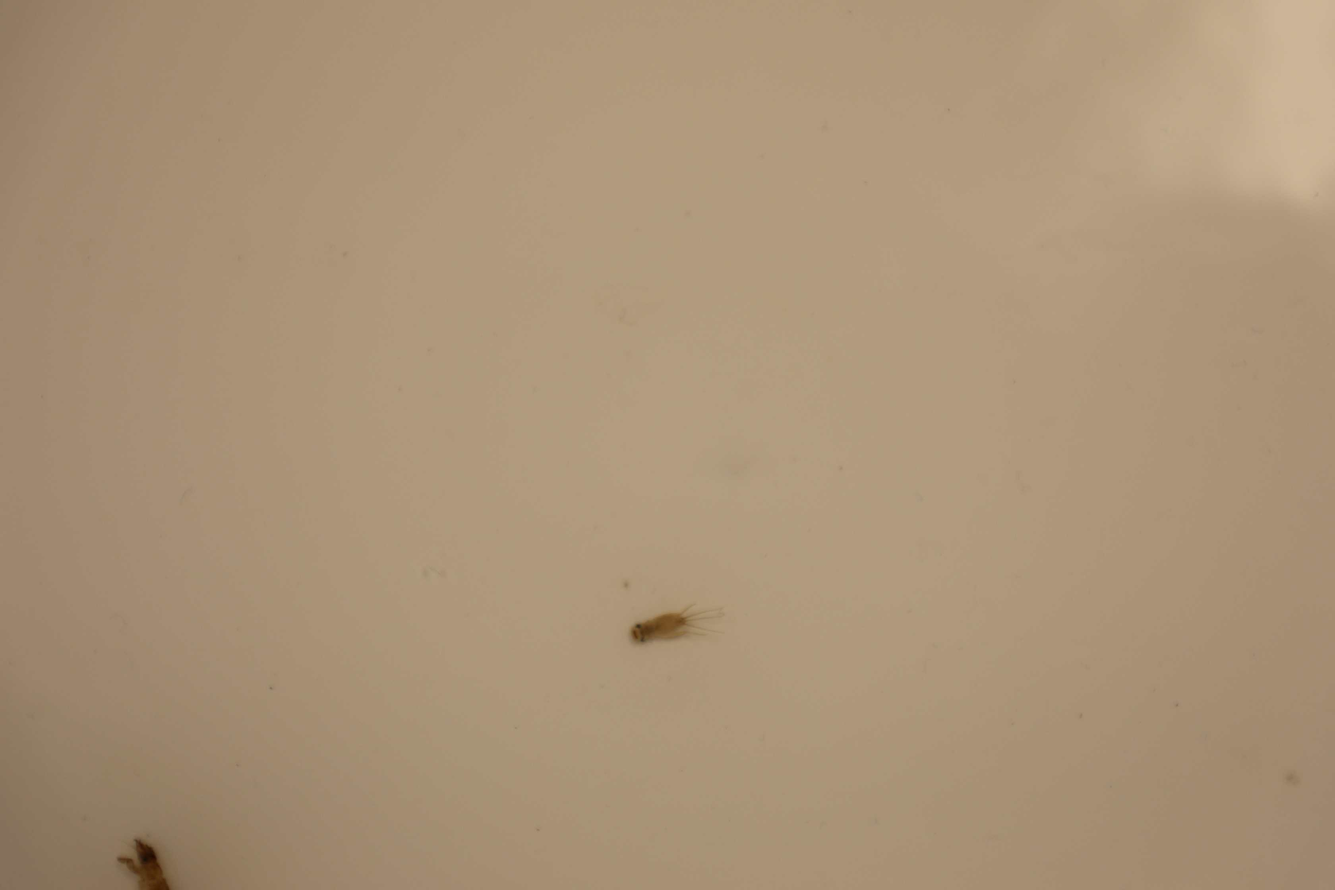Mayfly: (627, 595, 732, 655)
Other: (112, 832, 170, 890)
